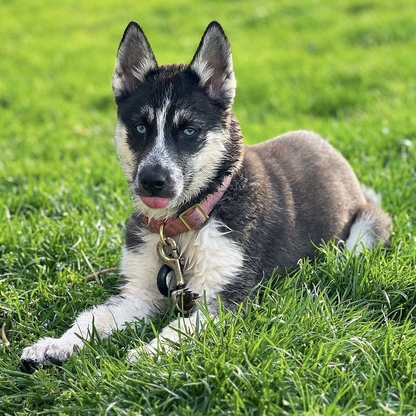husky: (14, 15, 400, 382)
